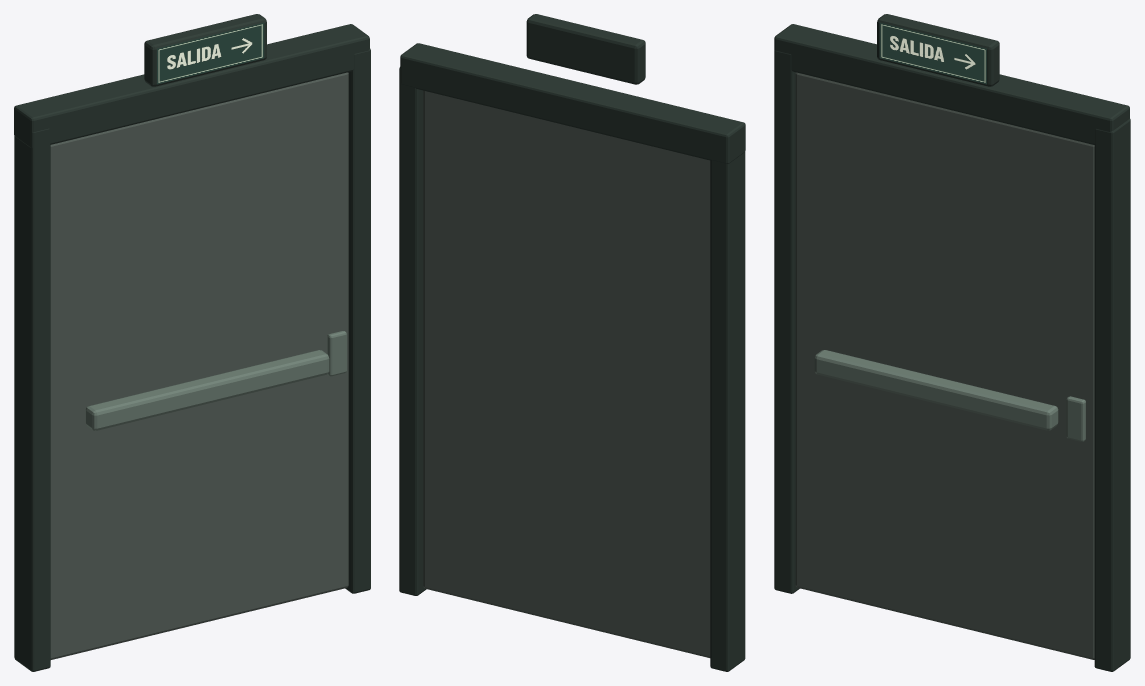
File: exit.glb
The picture shows the model from 3 angles, left to right: view 1: azimuth 30°, elevation 25°; view 2: azimuth 150°, elevation 25°; view 3: azimuth 330°, elevation 25°; orthographic projection. The views are drawn at different scales.
Visible parts, largest first — view 1: DOOR_LEAF, Exit_jamb, Exit_header, Exit_jamb.001, PUSH_BAR, EXIT_SIGN, Sign_housing, LATCH_PLATE; view 2: DOOR_LEAF, Exit_jamb, Exit_header, Exit_jamb.001, Sign_housing; view 3: DOOR_LEAF, Exit_jamb.001, Exit_header, Exit_jamb, PUSH_BAR, EXIT_SIGN, Sign_housing, LATCH_PLATE.
Boxes of the visible parts, x1,y1,x2,y2 form: DOOR_LEAF: (50, 72, 348, 659); Exit_jamb: (14, 128, 50, 671); Exit_header: (14, 24, 369, 147); Exit_jamb.001: (345, 48, 370, 593); PUSH_BAR: (85, 350, 329, 430); EXIT_SIGN: (157, 22, 264, 84); Sign_housing: (144, 14, 266, 86); LATCH_PLATE: (327, 331, 346, 376); DOOR_LEAF: (423, 90, 710, 657); Exit_jamb: (710, 152, 745, 671); Exit_header: (400, 43, 745, 163); Exit_jamb.001: (399, 67, 426, 595); Sign_housing: (526, 14, 645, 84); DOOR_LEAF: (795, 72, 1094, 659); Exit_jamb.001: (1094, 119, 1130, 671); Exit_header: (774, 24, 1129, 144); Exit_jamb: (774, 50, 799, 593); PUSH_BAR: (814, 350, 1058, 430); EXIT_SIGN: (879, 22, 986, 84); Sign_housing: (877, 14, 999, 86); LATCH_PLATE: (1066, 396, 1085, 441).
Size of the model in its own units: 1.46 by 2.49 by 0.2225.
Materials: 4 (1 with a texture image).
